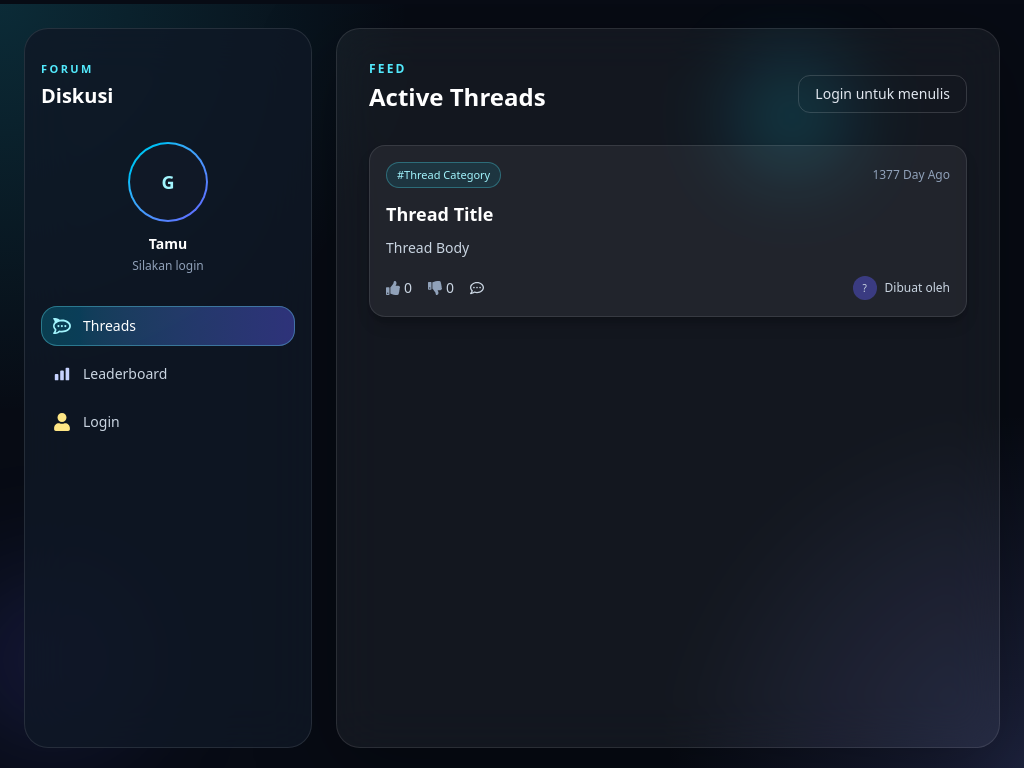
Detail Page › Should show the comment section when detail page is loaded
The image size is (1024, 768).
Click the link "Thread Title Thread Body" at x=440, y=214, box [386,202,494,257]
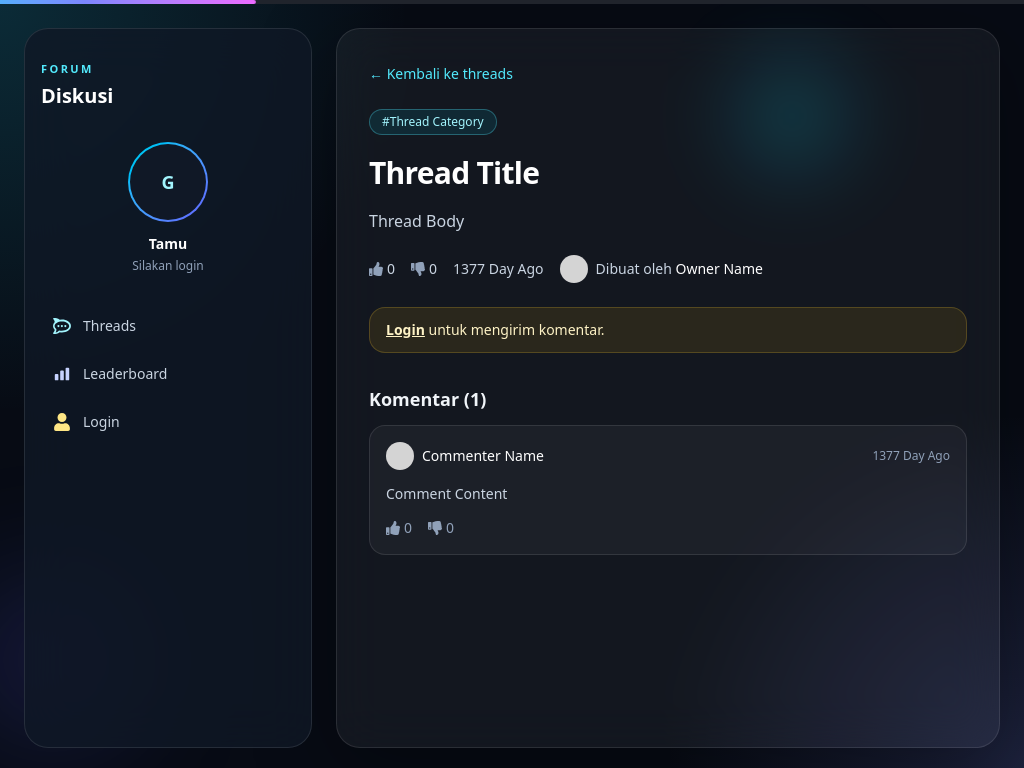
Expected: the number of elements with class "header" is 1, [369,425,967,555]
